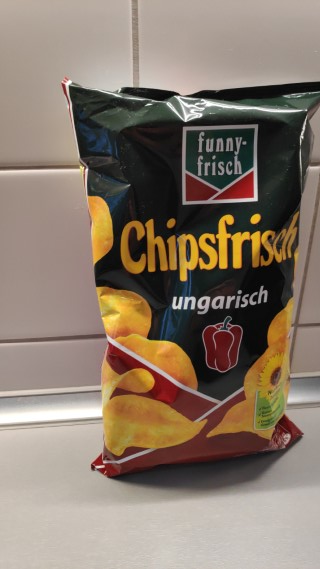chipsfrisch: (59, 73, 320, 481)
